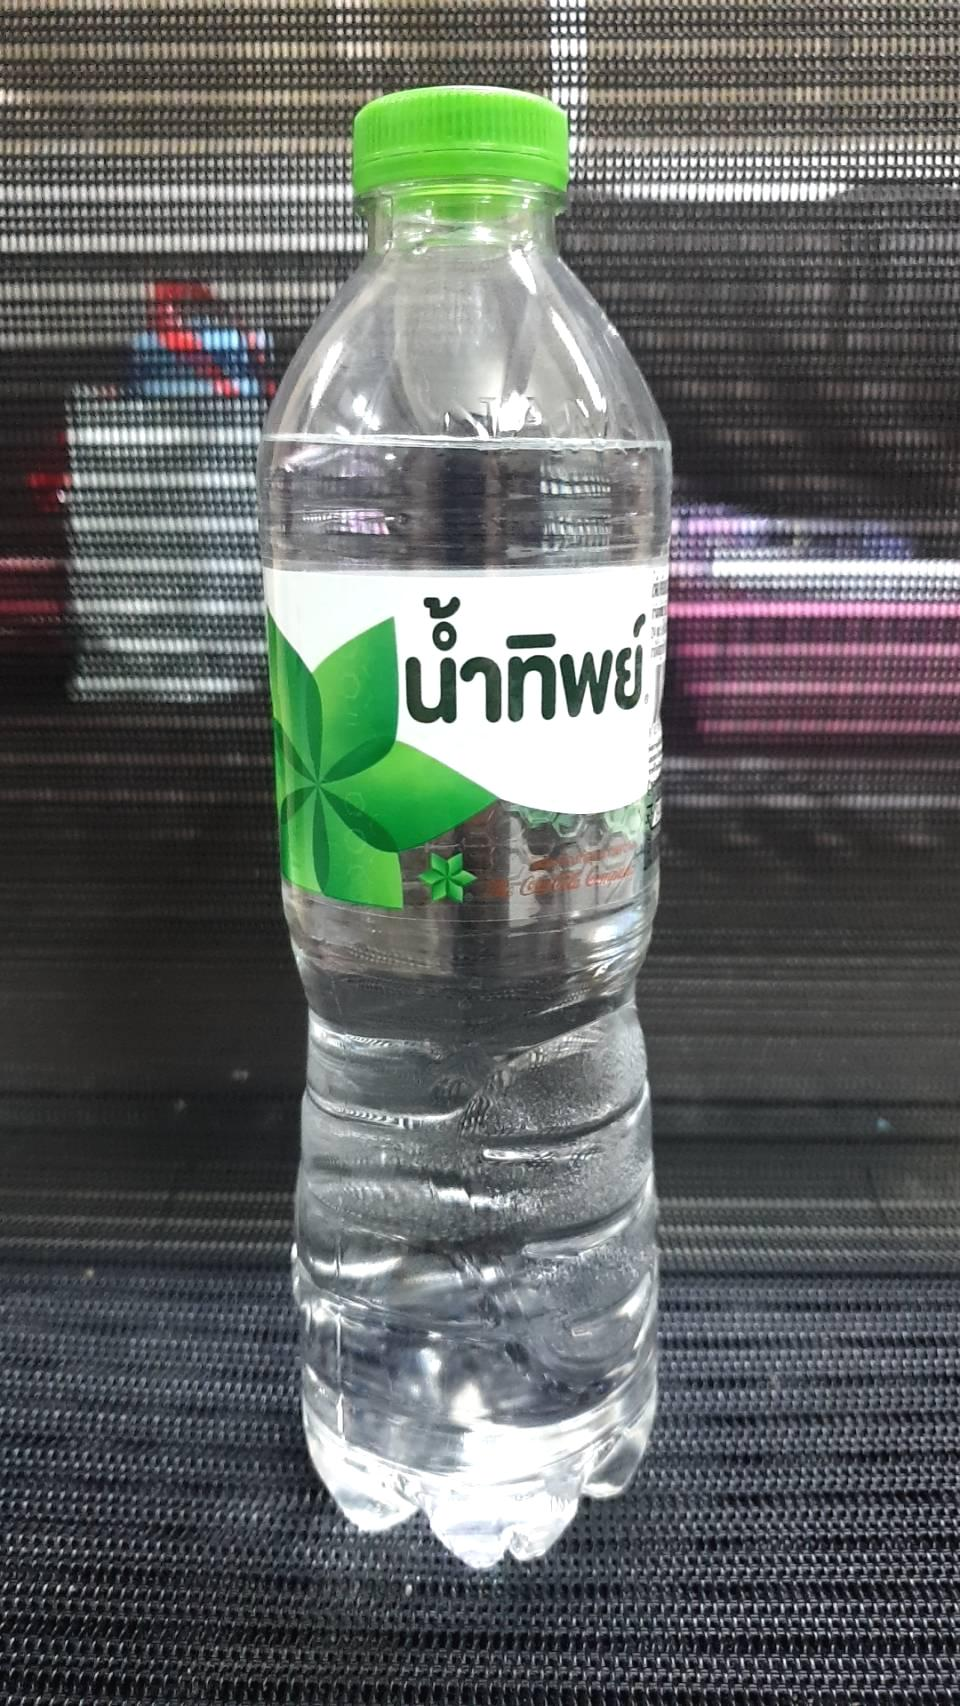bottle: (238, 77, 693, 1606)
